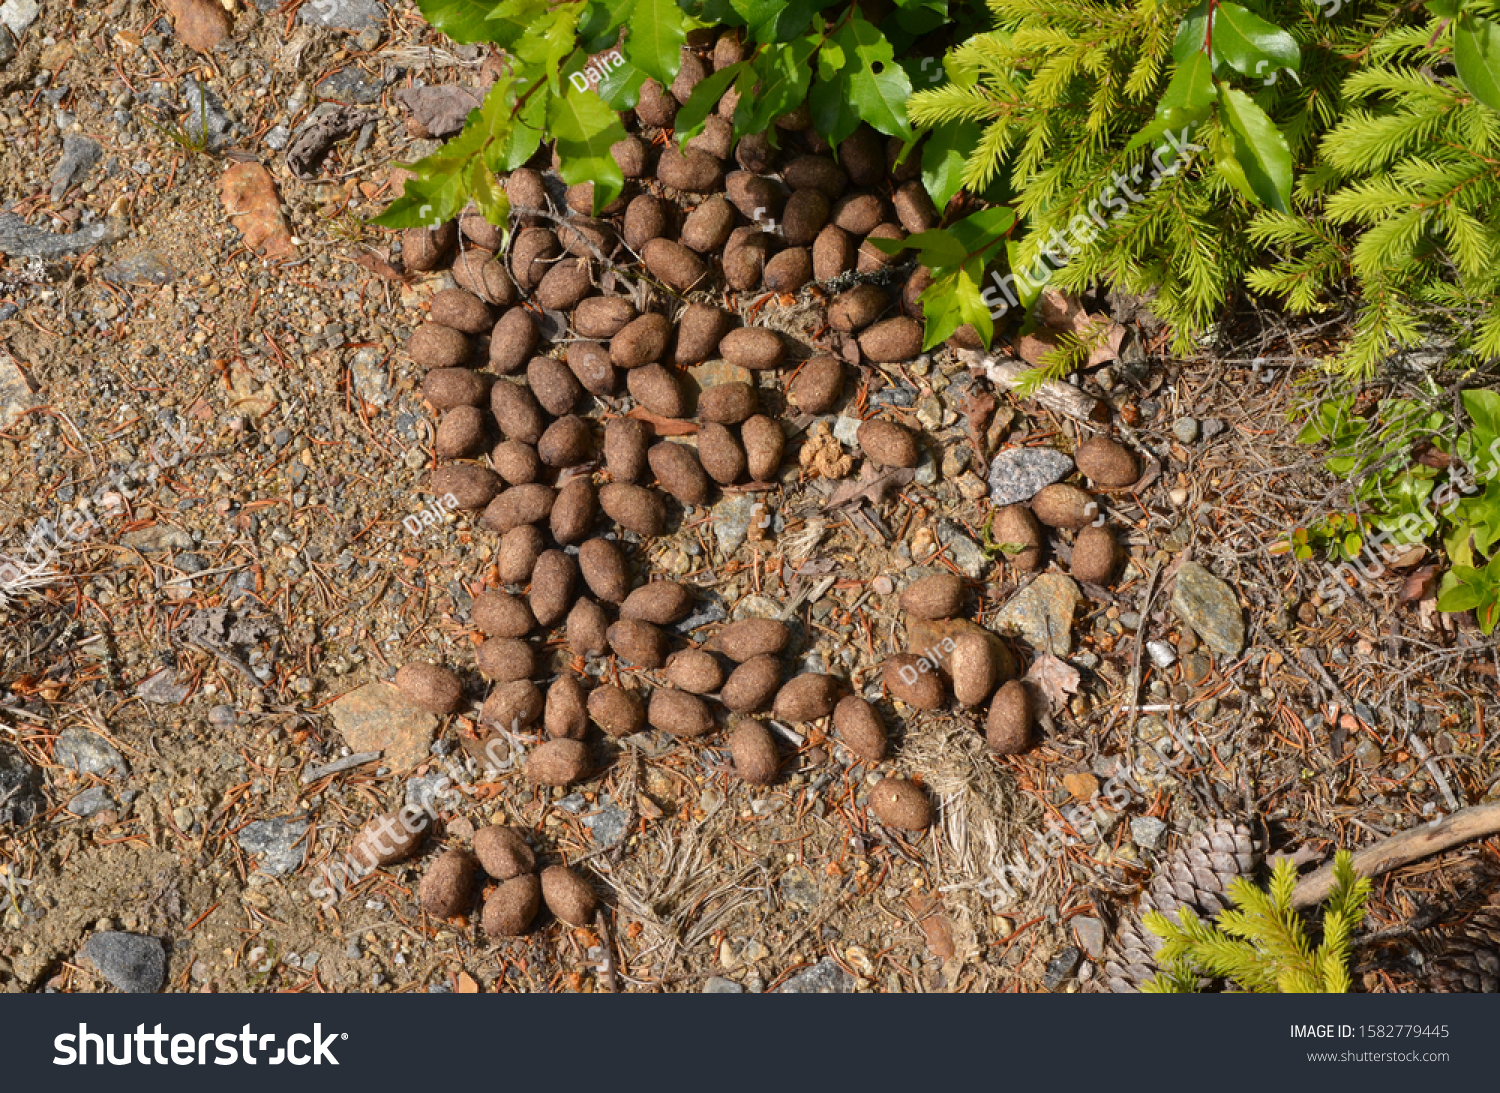Elk: (438, 116, 937, 475), (447, 471, 720, 705)
